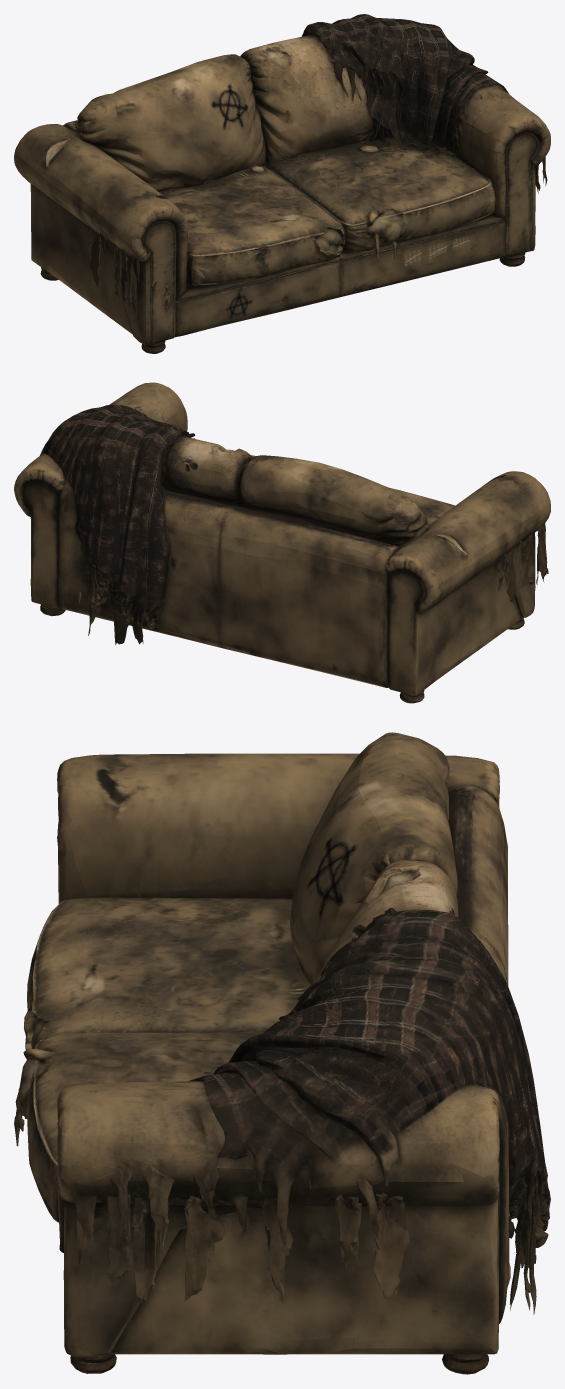
The model's file is couch.glb.
The picture shows the model from 3 angles, top to bottom: view 1: azimuth 30°, elevation 25°; view 2: azimuth 150°, elevation 25°; view 3: azimuth 270°, elevation 25°; orthographic projection. The views are drawn at different scales.
Parts seen in each view (by area): view 1: output_unwrapped; view 2: output_unwrapped; view 3: output_unwrapped.
Part boxes in pixels (x1,y1,x2,y2): output_unwrapped: [14, 14, 550, 353]; output_unwrapped: [14, 382, 550, 703]; output_unwrapped: [14, 732, 550, 1374].
Bounding box in the file's own units: 1.9 × 0.857 × 1.11.
Materials: 1 (1 with a texture image).
